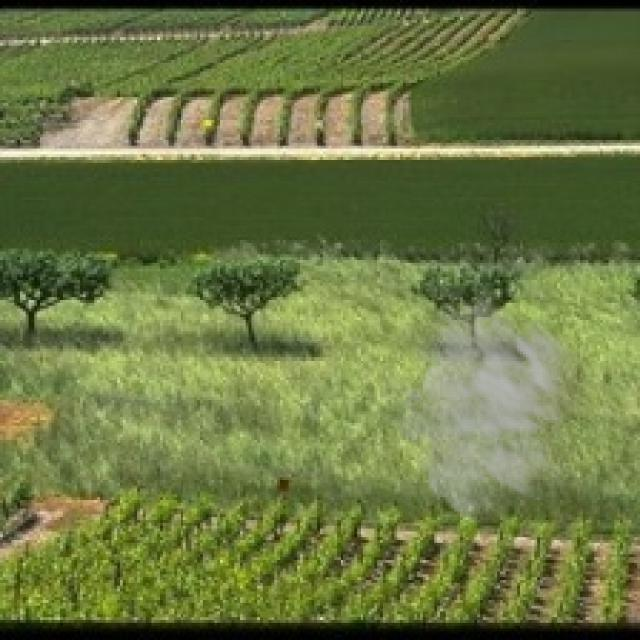Smoke: (388, 282, 608, 534)
